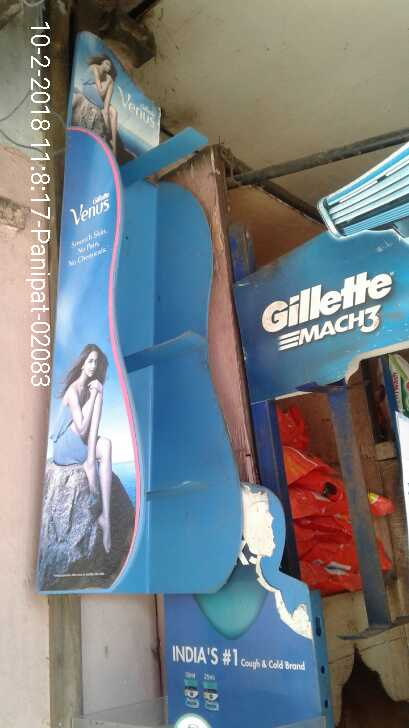reject: (172, 245, 267, 455)
